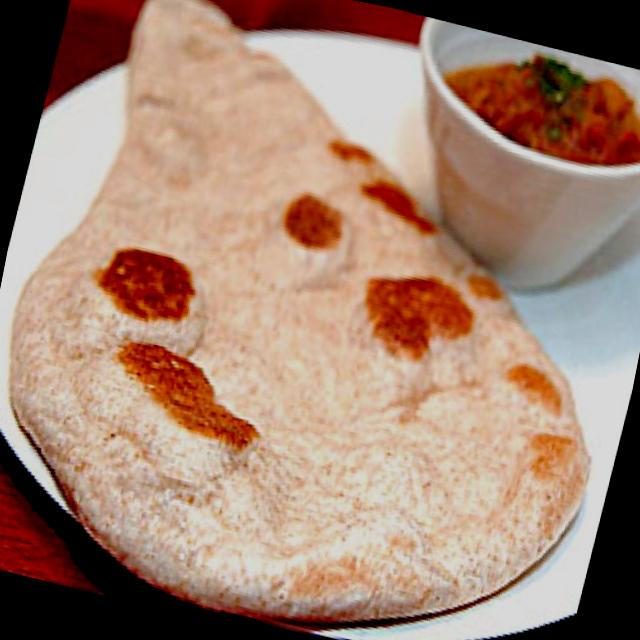Beef Curry: (454, 37, 640, 173)
